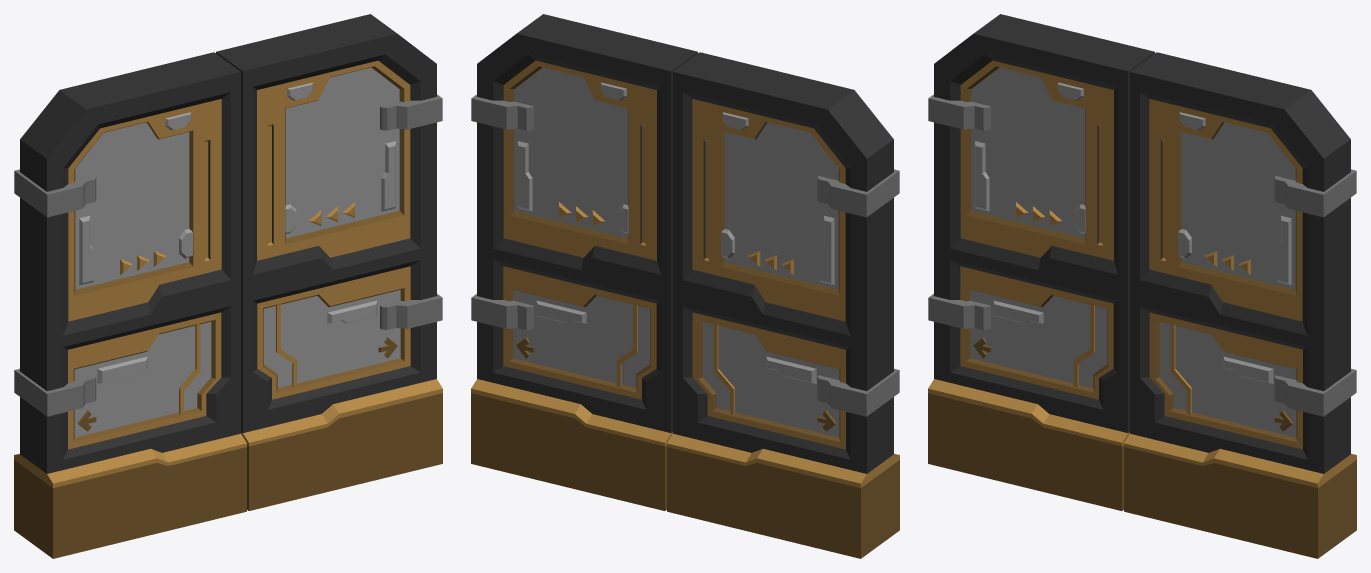
File: Lab_Door_Double.gltf
The picture shows the model from 3 angles, left to right: view 1: azimuth 30°, elevation 25°; view 2: azimuth 150°, elevation 25°; view 3: azimuth 330°, elevation 25°; orthographic projection.
Parts seen in each view (by area): view 1: Lab_Door_Double; view 2: Lab_Door_Double; view 3: Lab_Door_Double.
Boxes of the visible parts, box(x1,y1,x2,y2) form: Lab_Door_Double: box(14, 14, 442, 558); Lab_Door_Double: box(471, 14, 899, 558); Lab_Door_Double: box(928, 14, 1356, 558).
Size of the model in its own units: 2.85 by 3 by 0.4882.
